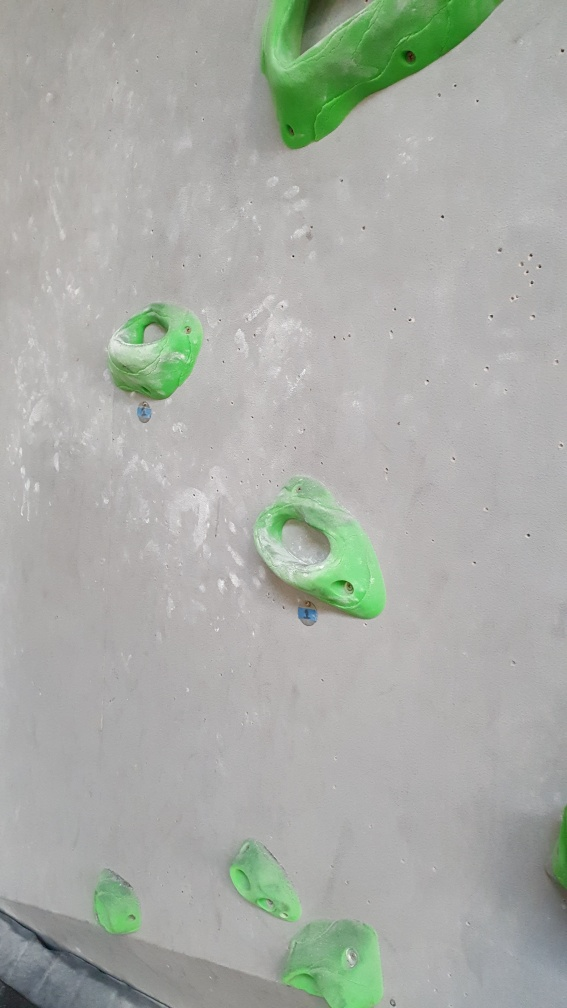Hand Start: (296, 599, 321, 629), (136, 400, 152, 423)
Pocket: (257, 1, 510, 152), (254, 470, 388, 622), (104, 298, 207, 400)
